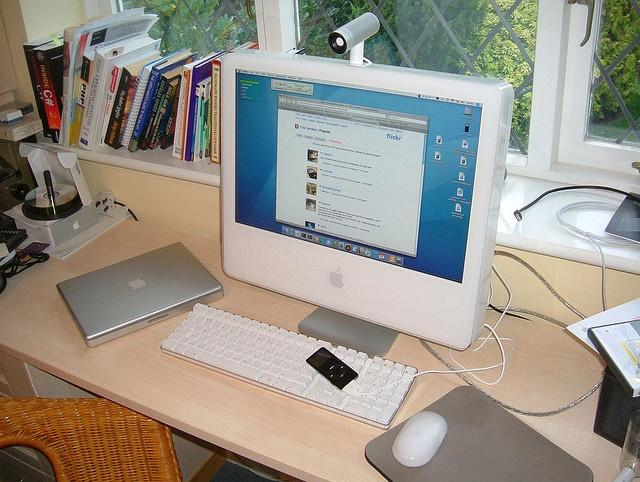AIO PC-Monitor-TV: (219, 53, 501, 348)
